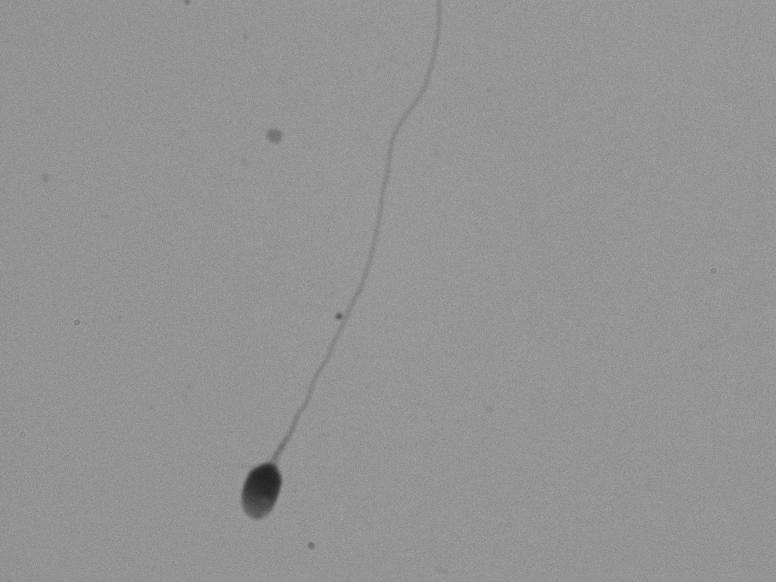Normal: (174, 13, 459, 549)
